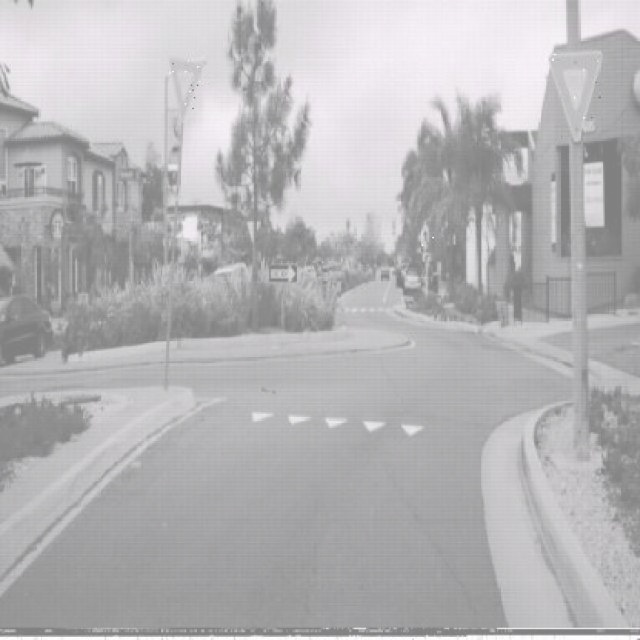pedestrianCrossing: (418, 220, 437, 254)
yield: (548, 49, 602, 140), (170, 54, 203, 113)
